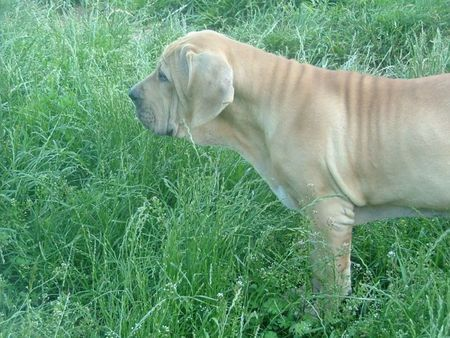fila_brasileiro: (127, 29, 450, 300)
